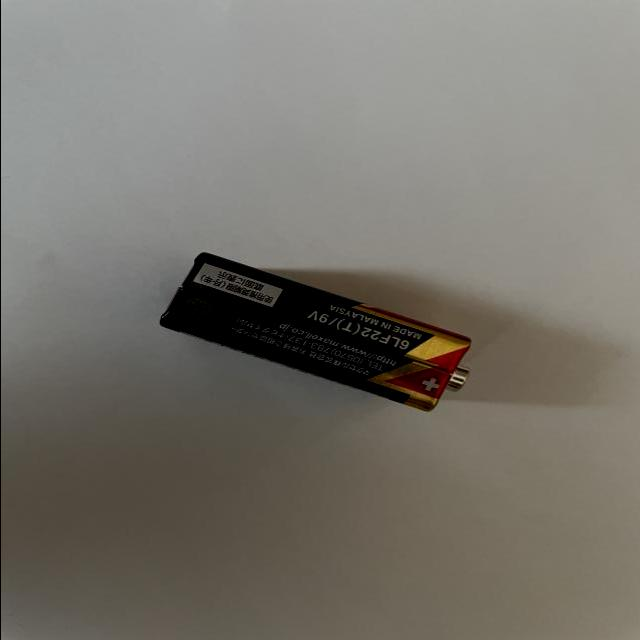9V: (158, 252, 472, 413)
